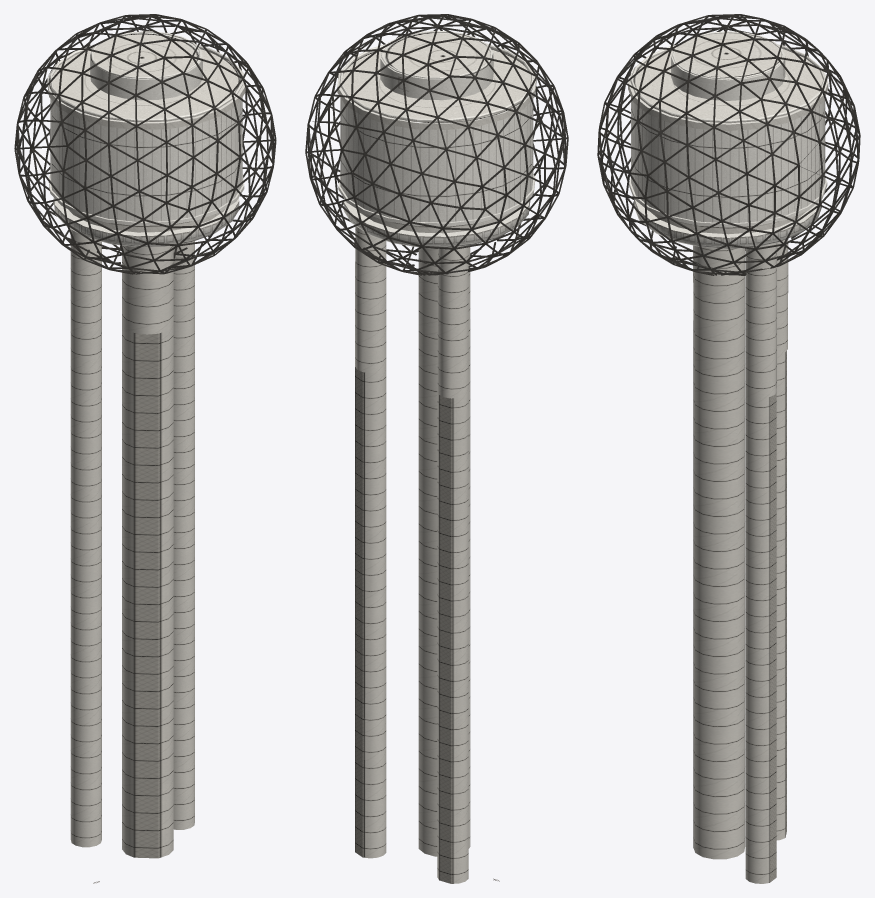
The model's file is sponsor-globe-flat-2.glb.
The picture shows the model from 3 angles, left to right: view 1: azimuth 30°, elevation 25°; view 2: azimuth 150°, elevation 25°; view 3: azimuth 270°, elevation 25°; orthographic projection.
Parts seen in each view (by area): view 1: MainRoom, Support2_SupportMAT_0.001, PlatonicSphere, Support2, Support2_SupportMAT_0.002; view 2: MainRoom, PlatonicSphere, Support2, Support2_SupportMAT_0.002, Support2_SupportMAT_0.001; view 3: Support2_SupportMAT_0.001, MainRoom, PlatonicSphere, Support2_SupportMAT_0.002, Support2.
Part boxes in pixels (box(x1,y1,x2,y2)): MainRoom: box(47, 31, 245, 246); Support2_SupportMAT_0.001: box(122, 245, 173, 858); PlatonicSphere: box(14, 14, 276, 274); Support2: box(70, 229, 101, 847); Support2_SupportMAT_0.002: box(173, 241, 194, 829); MainRoom: box(337, 30, 536, 247); PlatonicSphere: box(305, 14, 568, 275); Support2: box(437, 245, 468, 883); Support2_SupportMAT_0.002: box(355, 226, 386, 858); Support2_SupportMAT_0.001: box(418, 247, 470, 856); Support2_SupportMAT_0.001: box(693, 245, 745, 859); MainRoom: box(628, 31, 828, 248); PlatonicSphere: box(597, 14, 860, 275); Support2_SupportMAT_0.002: box(745, 242, 777, 883); Support2: box(776, 239, 788, 840).
Bounding box in the file's own units: 26.06 × 92.59 × 26.1.
Materials: 6 (6 with a texture image).
